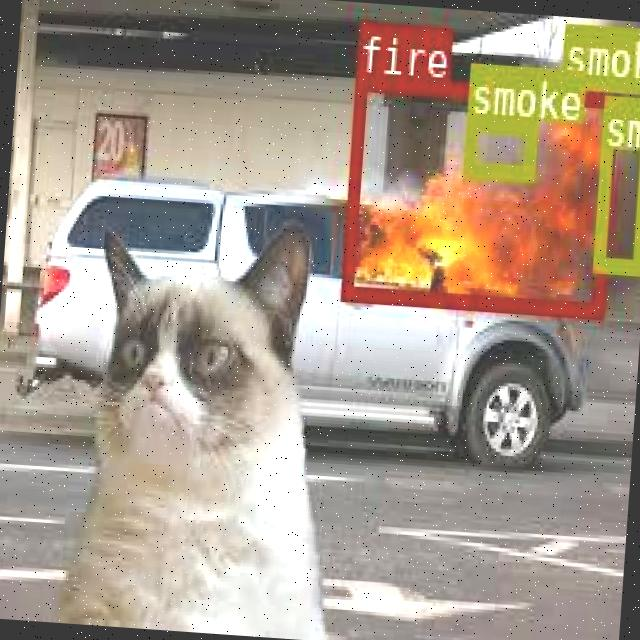fire: (338, 71, 616, 315)
smoke: (591, 92, 640, 269), (558, 21, 640, 90), (462, 114, 534, 176)
